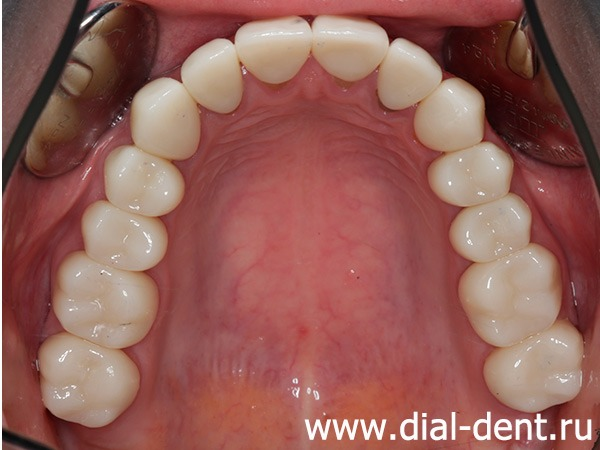UL1BC_healthy: (429, 143, 511, 206)
UL1M_healthy: (460, 246, 559, 346)
UL2BC_healthy: (451, 194, 530, 261)
UL2M_healthy: (486, 325, 580, 412)
ULCI_healthy: (312, 17, 387, 80)
ULC_healthy: (415, 78, 483, 150)
ULLI_healthy: (378, 42, 442, 109)
UR1BC_healthy: (104, 146, 184, 217)
UR1M_healthy: (58, 251, 156, 345)
UR2BC_healthy: (83, 202, 168, 271)
UR2M_healthy: (41, 337, 138, 427)
URCI_healthy: (235, 24, 310, 83)
URC_healthy: (131, 77, 199, 159)
URLI_healthy: (181, 39, 242, 112)
